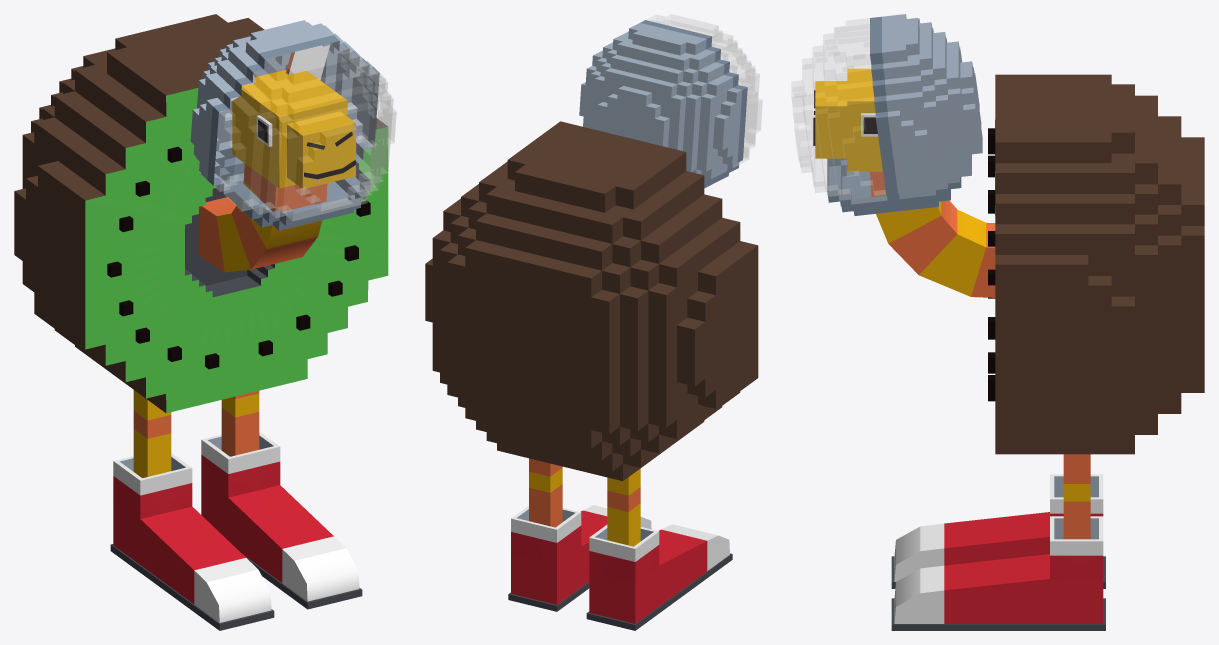
Rendered from Girafa_Celestre.fbx.
The picture shows the model from 3 angles, left to right: view 1: azimuth 30°, elevation 25°; view 2: azimuth 150°, elevation 25°; view 3: azimuth 270°, elevation 25°; orthographic projection. The views are drawn at different scales.
Parts seen in each view (by area): view 1: Girafa_Celestre``.003; view 2: Girafa_Celestre``.003; view 3: Girafa_Celestre``.003.
Part boxes in pixels (x1,y1,x2,y2): Girafa_Celestre``.003: [14, 14, 396, 630]; Girafa_Celestre``.003: [425, 14, 762, 630]; Girafa_Celestre``.003: [791, 14, 1204, 630].
Size of the model in its own units: 1.21 by 2.2 by 1.45.
